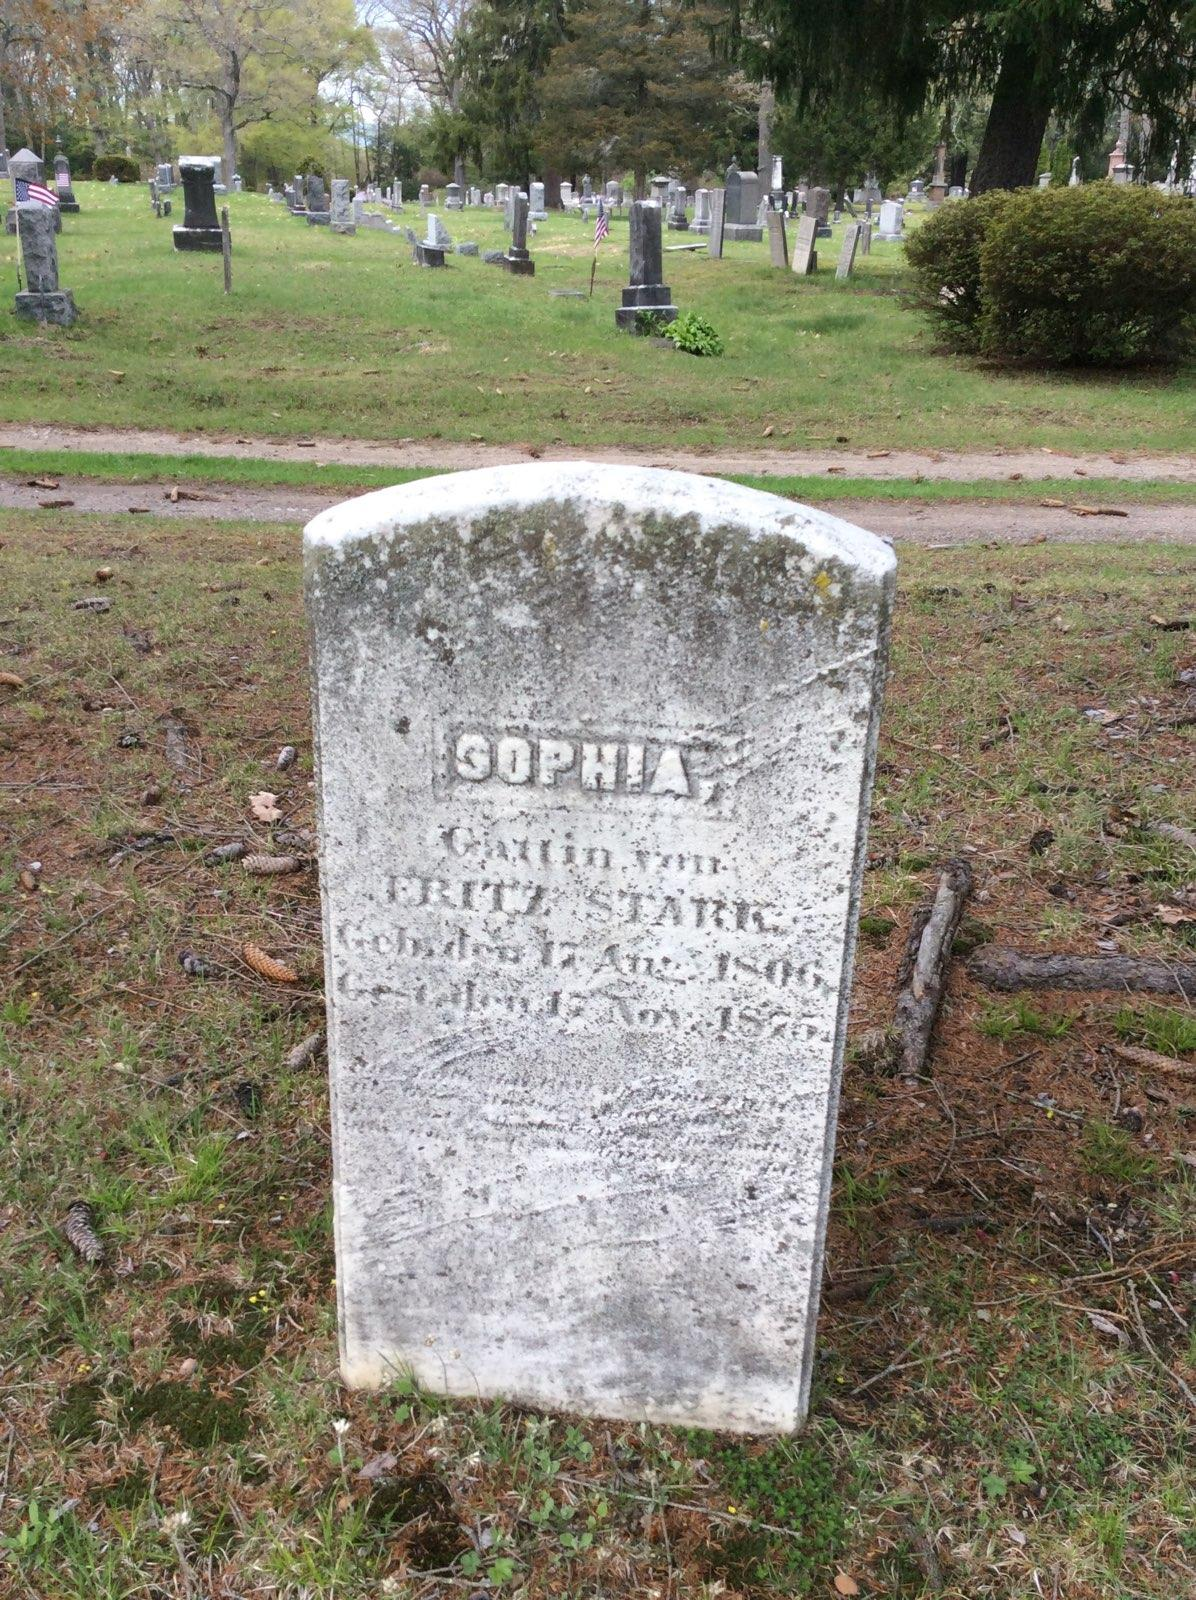upright: (285, 450, 896, 1444)
